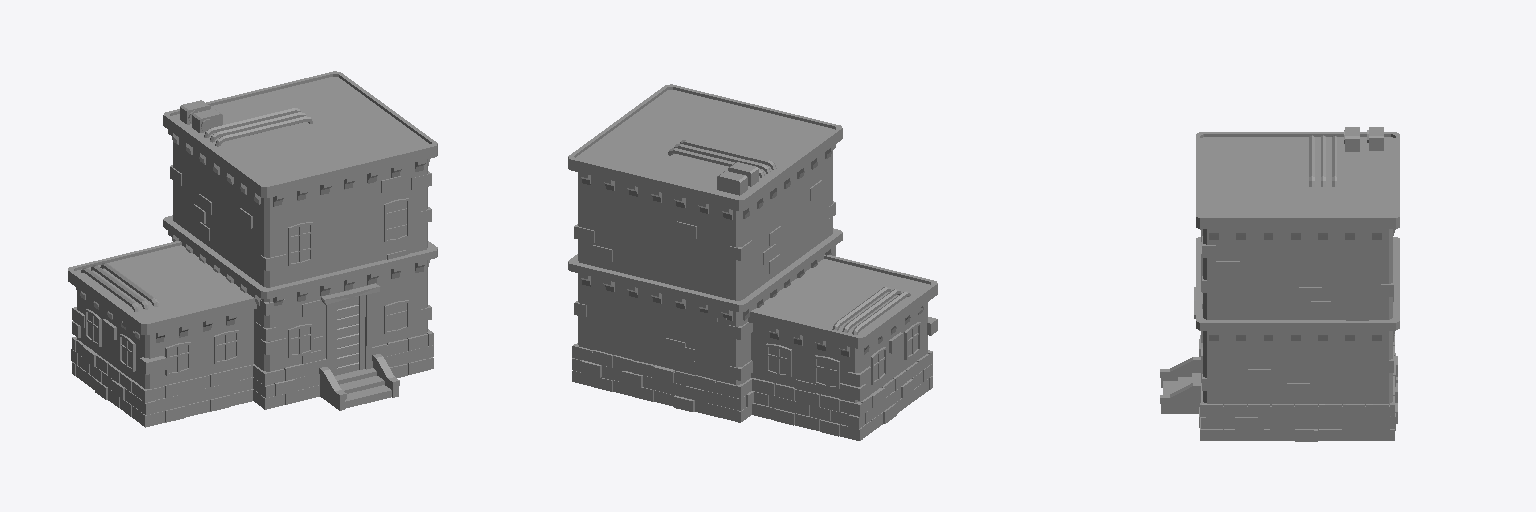
The model's file is 2Story_Sidehouse.obj.
3 renders of one model, left to right at view 1: azimuth 30°, elevation 25°; view 2: azimuth 150°, elevation 25°; view 3: azimuth 270°, elevation 25°, orthographic.
Parts seen in each view (by area): view 1: 2Story_Sidehouse_Cube.015; view 2: 2Story_Sidehouse_Cube.015; view 3: 2Story_Sidehouse_Cube.015.
Boxes of the visible parts, <box> form: 2Story_Sidehouse_Cube.015: <box>68,71,437,427</box>; 2Story_Sidehouse_Cube.015: <box>568,84,937,440</box>; 2Story_Sidehouse_Cube.015: <box>1160,127,1399,441</box>.
Size of the model in its own units: 3.47 by 2.76 by 2.53.